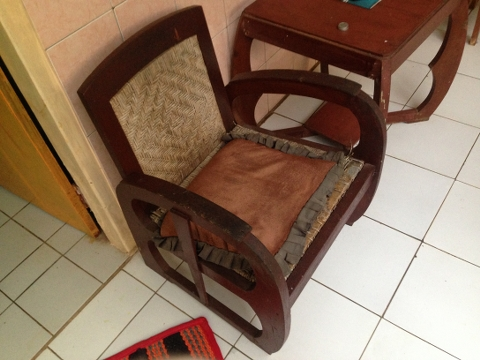kursi: (76, 6, 387, 355)
